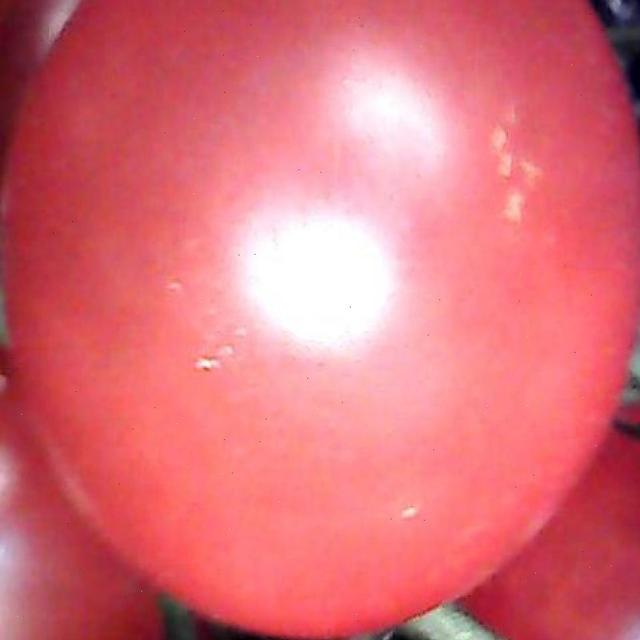Healthy Fruit: (0, 5, 416, 427)
